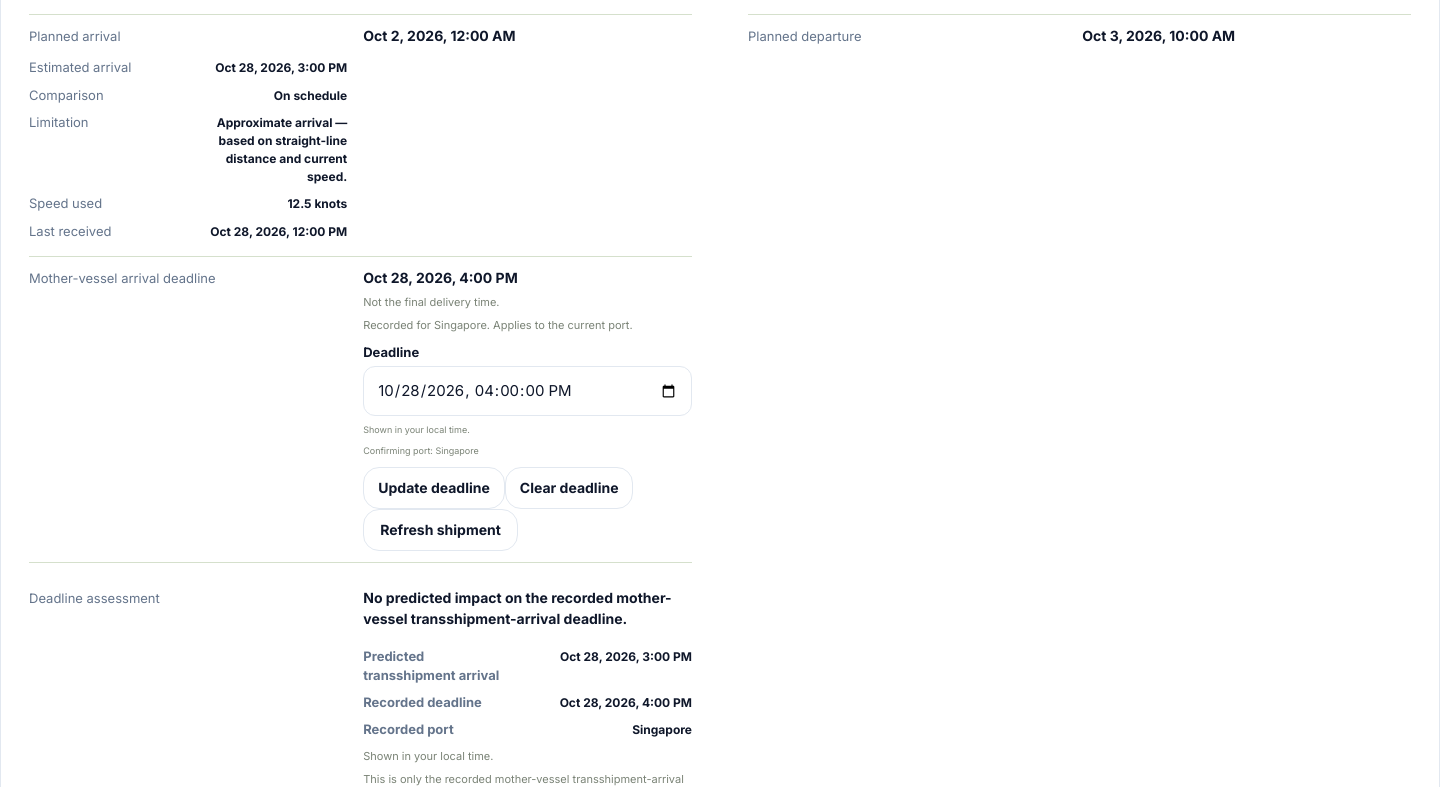
Test: deadline assessment on the shipment page › replaces the assessment when a deadline save returns a new detail and keeps it after a conflict
This screenshot has width=1440, height=787.
(page scrolled)
Expected: the text "No predicted impact on the recorded mother-vessel transshipment-arrival deadline." is shown, [363,589,672,627]
Expected: the text "On schedule" is shown, [274,88,347,103]
Replace the text in the field labelled "Deadline" with "2026-10-29T02:00:00" at (528, 391), box [363,366,692,416]
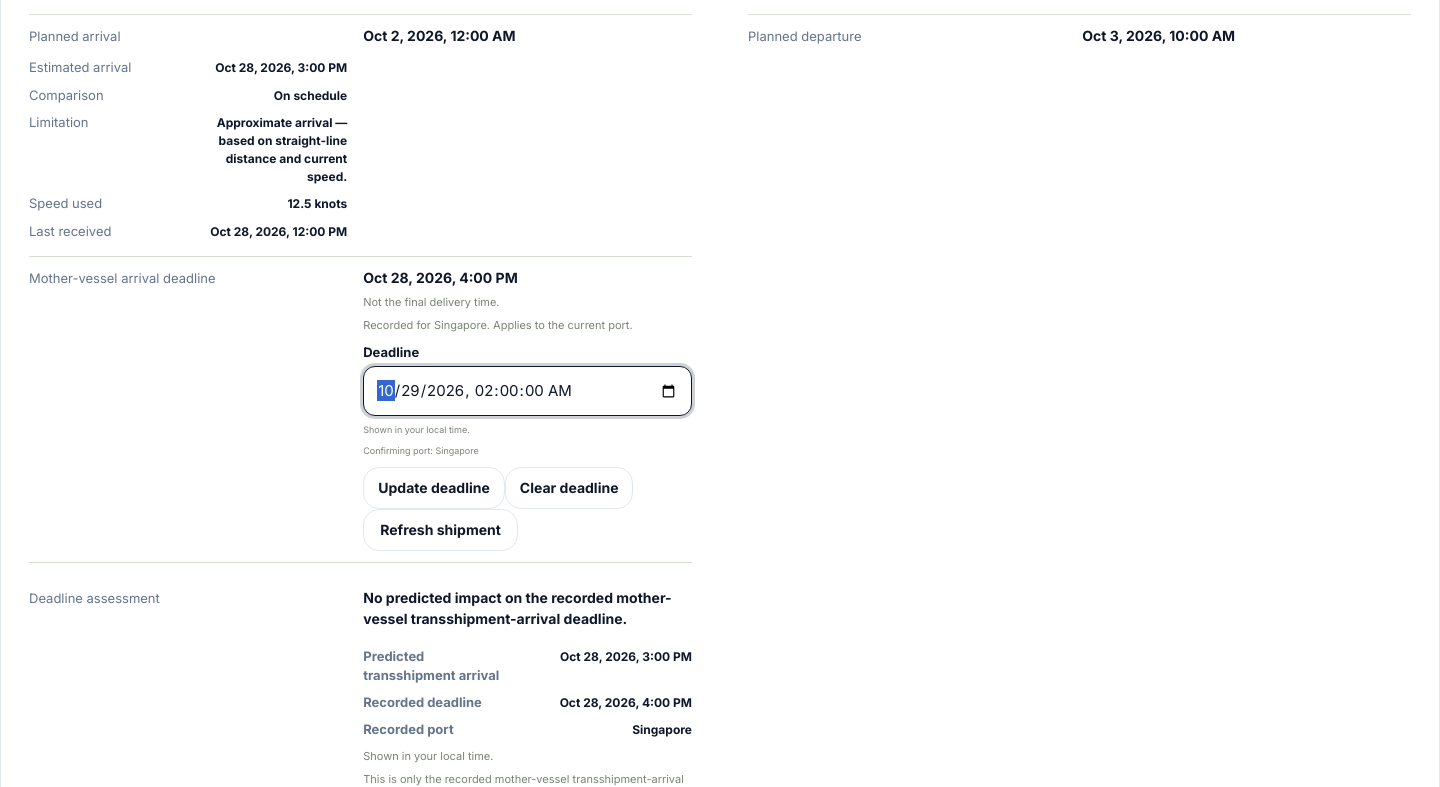
Expected: the text "No predicted impact on the recorded mother-vessel transshipment-arrival deadline." is shown, [363,589,672,627]
Click the button "Update deadline".
click(434, 488)  # box [363,467,505,509]
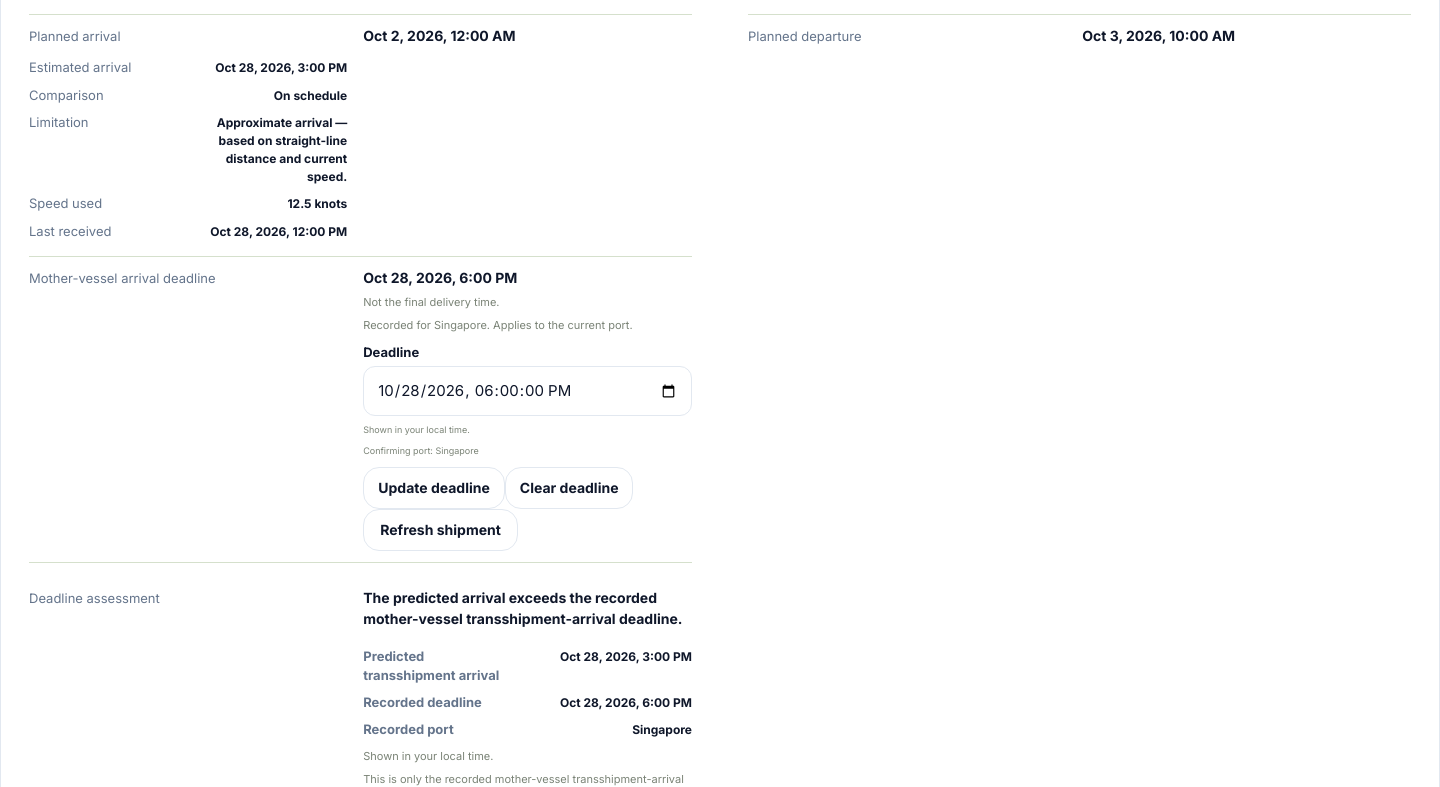
Expected: the text "The predicted arrival exceeds the recorded mother-vessel transshipment-arrival deadline." is shown, [363,589,682,627]
Expected: the text "No predicted impact on the recorded mother-vessel transshipment-arrival deadline." is gone
Replace the text in the field labelled "Deadline" with "2026-11-01T02:00:00" at (528, 391), box [363,366,692,416]
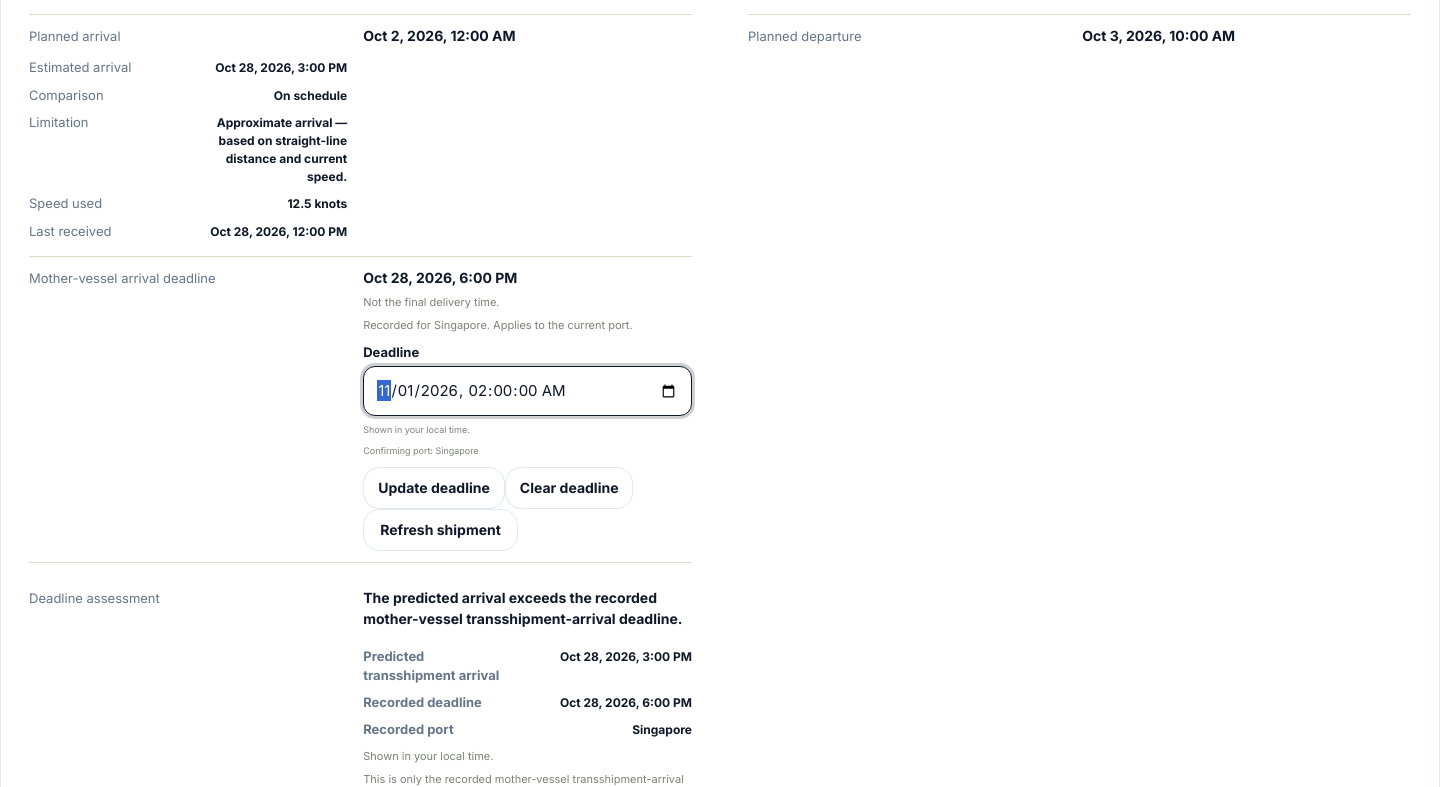
Click the button "Update deadline".
click(434, 488)  # box [363,467,505,509]
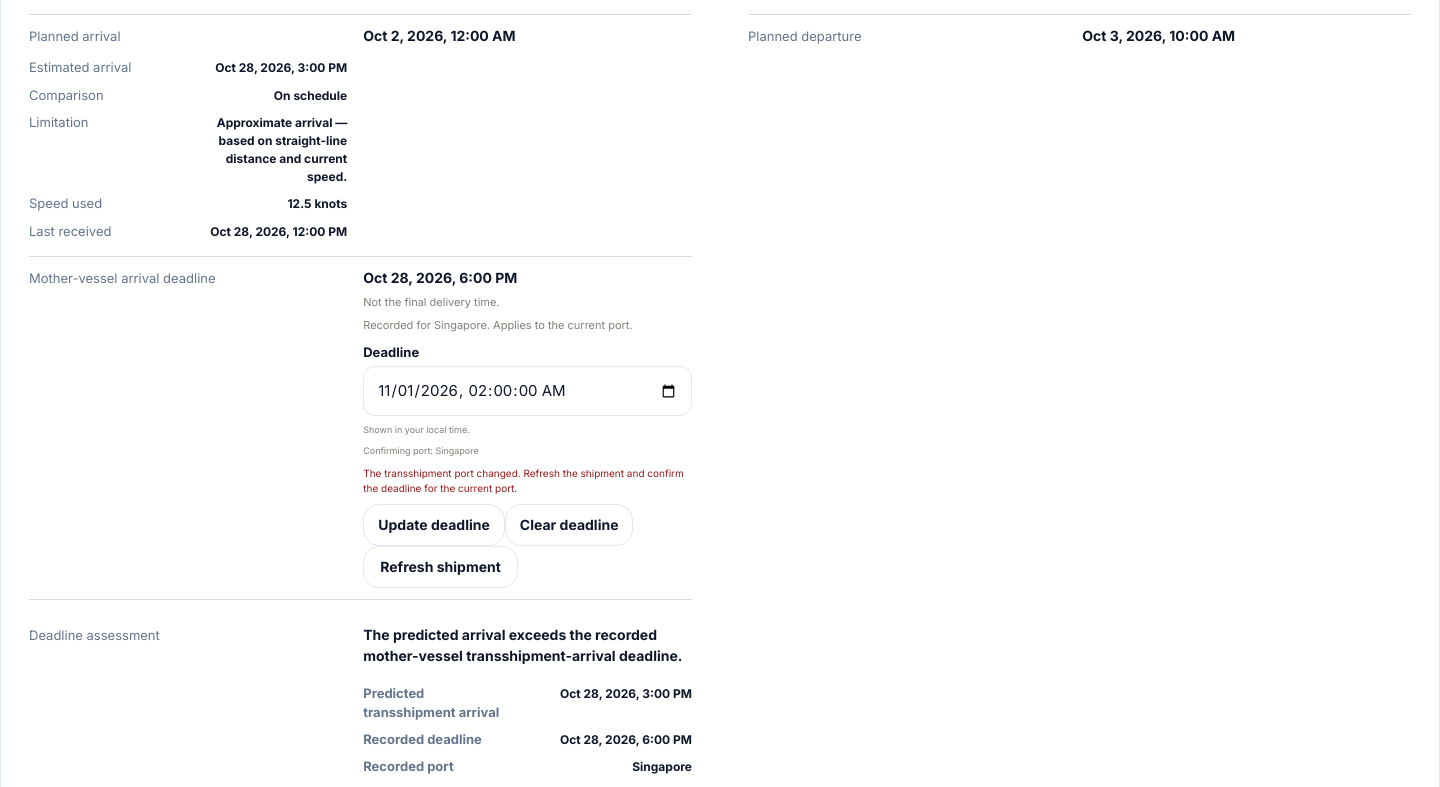
Expected: the text "The predicted arrival exceeds the recorded mother-vessel transshipment-arrival deadline." is shown, [363,626,682,664]
Expected: the field labelled "Deadline" holds "2026-11-01T02:00", [363,366,692,416]
Expected: the message shows "The transshipment port changed.", [363,467,684,494]
